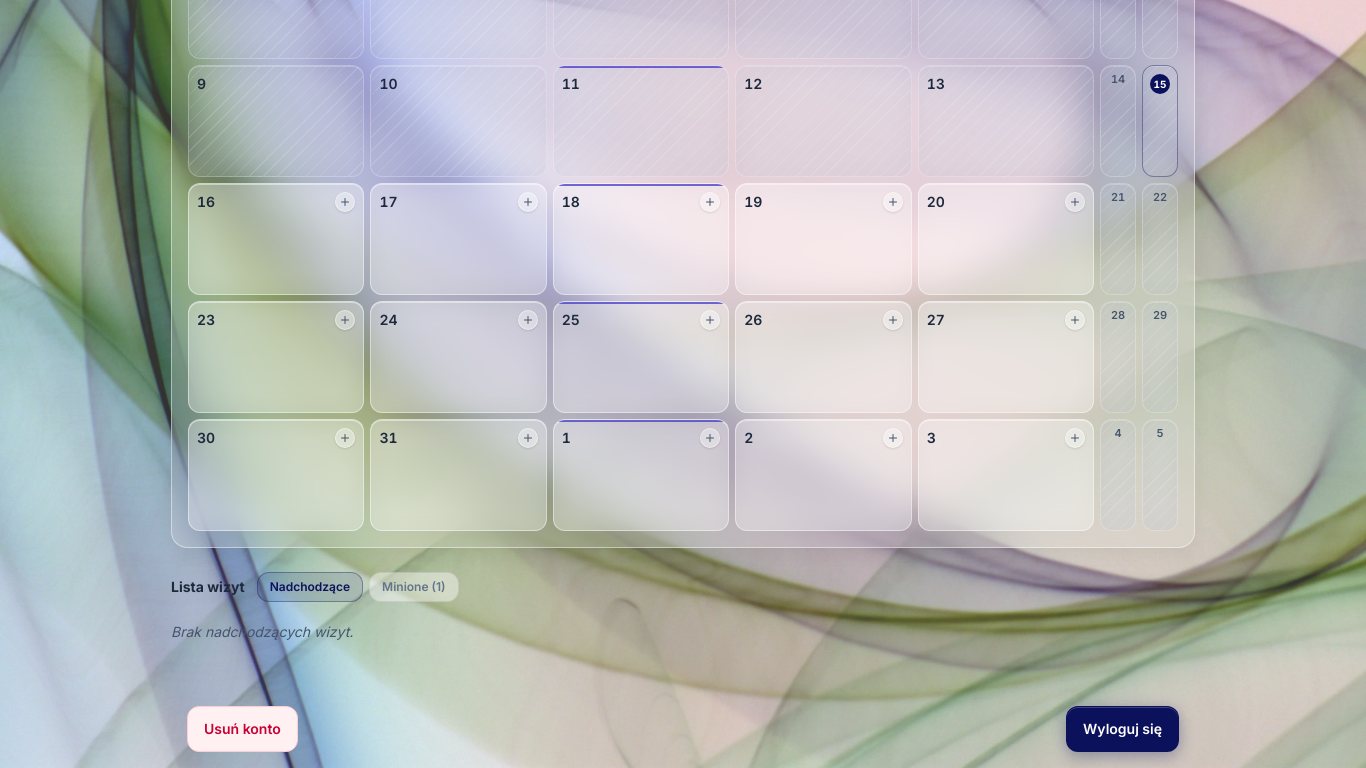
Test: GuestDashboard › moves past visits to the Minione tab and hides them from the calendar grid
(page scrolled)
Expected: the cell with test id "calendar-day-2026-03-12" does not show "miniona wizyta", [735,64,912,176]
Expected: the text "miniona wizyta" is not shown
Click the button "Minione (1)".
click(414, 586)  # box [369,572,459,602]
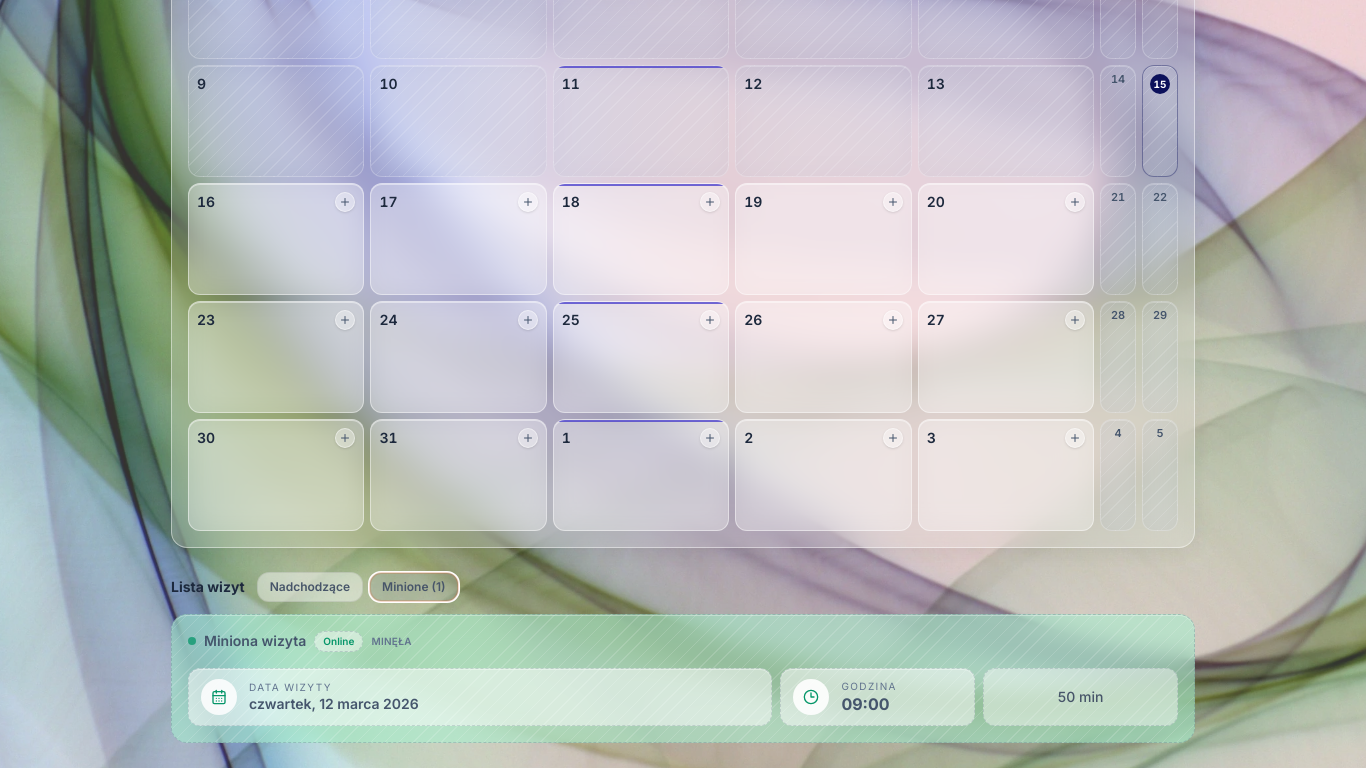
Expected: the text "Miniona wizyta" is shown, [204,631,306,651]
Expected: the text "Minęła" is shown, [371,634,412,648]
